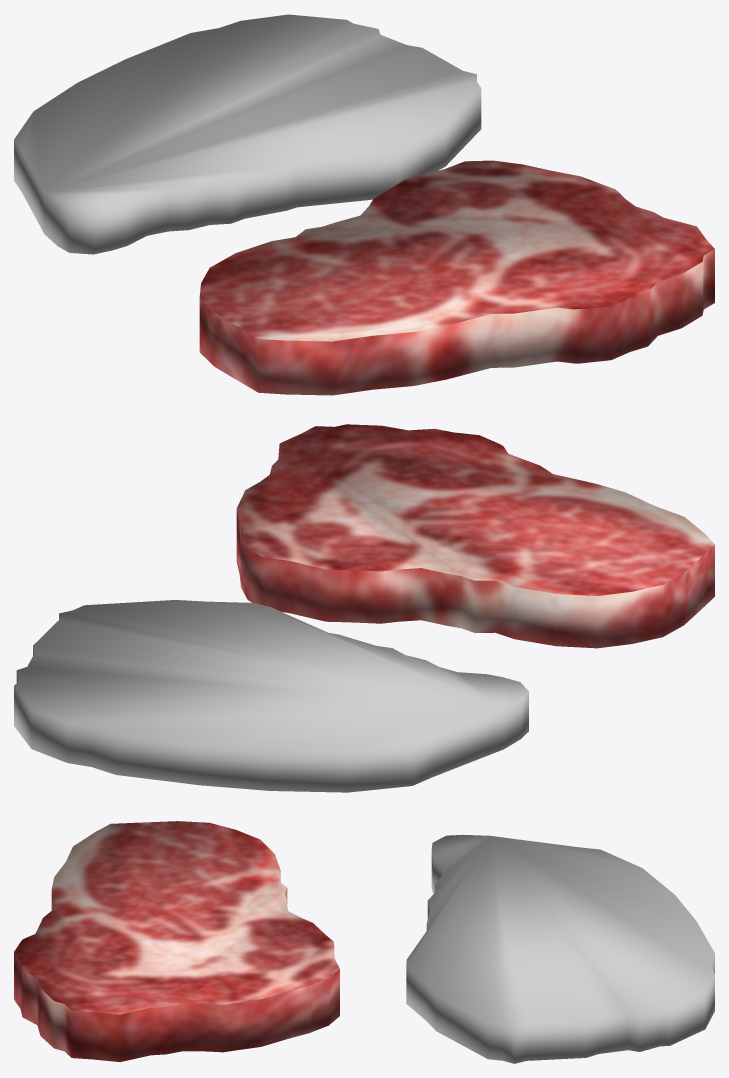
Rendered from Meat.fbx.
3 views of the same model, one above another, from view 1: azimuth 30°, elevation 25°; view 2: azimuth 150°, elevation 25°; view 3: azimuth 270°, elevation 25° (orthographic). The views are drawn at different scales.
Visible parts, largest first — view 1: Meat, Meat2; view 2: Meat, Meat2; view 3: Meat, Meat2.
Boxes of the visible parts, <box> form: Meat: <box>199,160,714,395</box>; Meat2: <box>14,14,481,254</box>; Meat: <box>236,424,714,648</box>; Meat2: <box>14,600,528,792</box>; Meat: <box>14,821,339,1061</box>; Meat2: <box>406,834,714,1063</box>.
Size of the model in its own units: 1200 by 136 by 1820.
